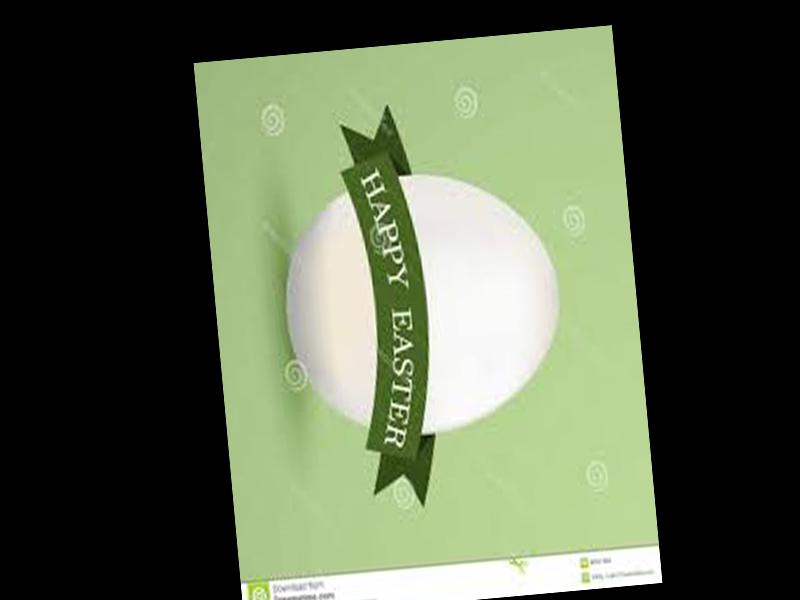Eggs: (276, 165, 569, 446)
